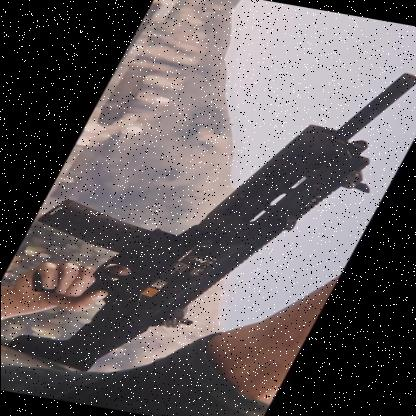rifle: (0, 24, 416, 403)
